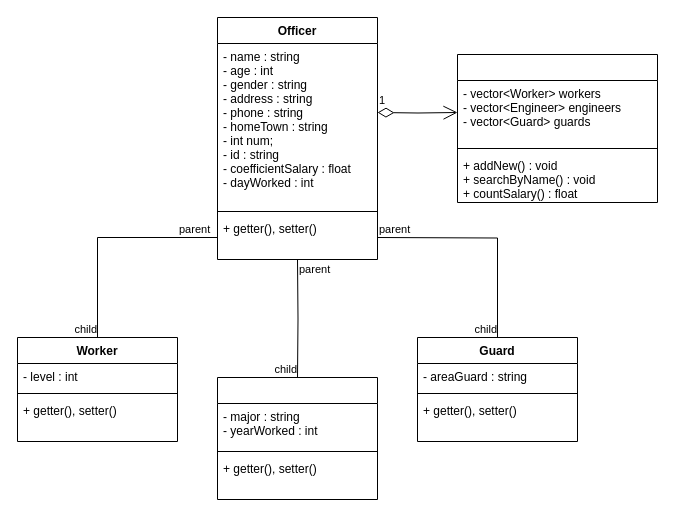
The diagram is 675 pixels wide and 520 high, and some of its shapes have lost their labels. The box of each missing label's shape, as (x1, y1, x2, y2) in pixels:
Engineer: (216, 376, 378, 500)
officerManage: (456, 54, 658, 202)
